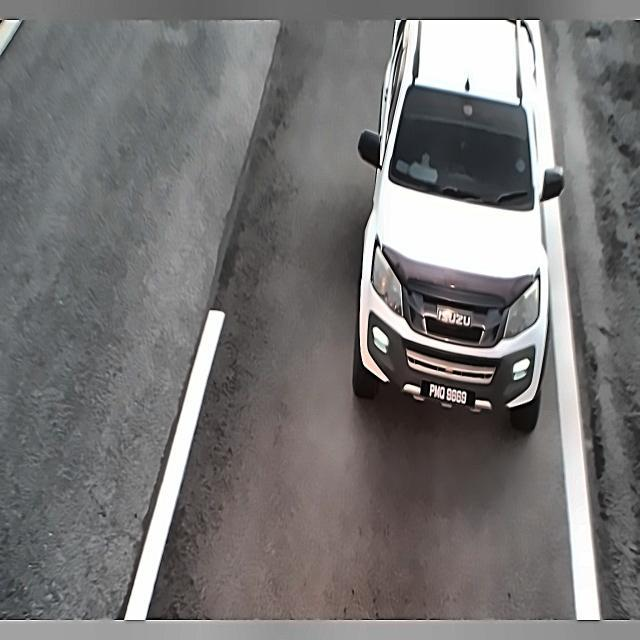car: (418, 374, 479, 418)
